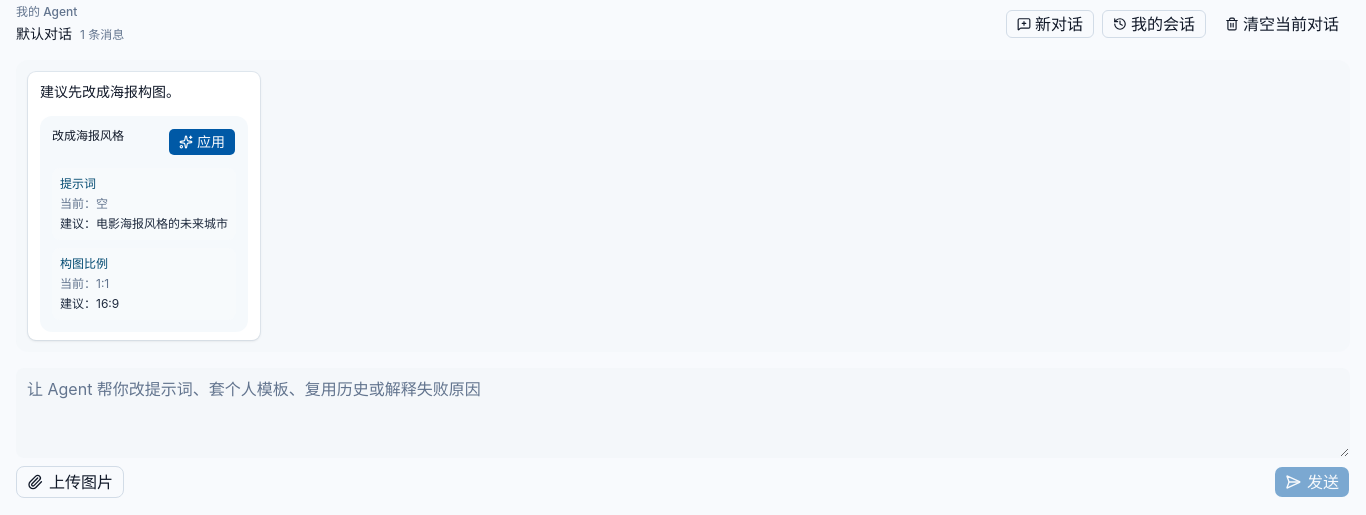
Scenario: AgentChatPanel › previews a form patch and applies it only after confirmation
This screenshot has width=1366, height=515.
Expected: the text "建议：电影海报风格的未来城市" is shown, [60,216,228,232]
Click the button "应用" at (202, 142), box [168,128,236,156]
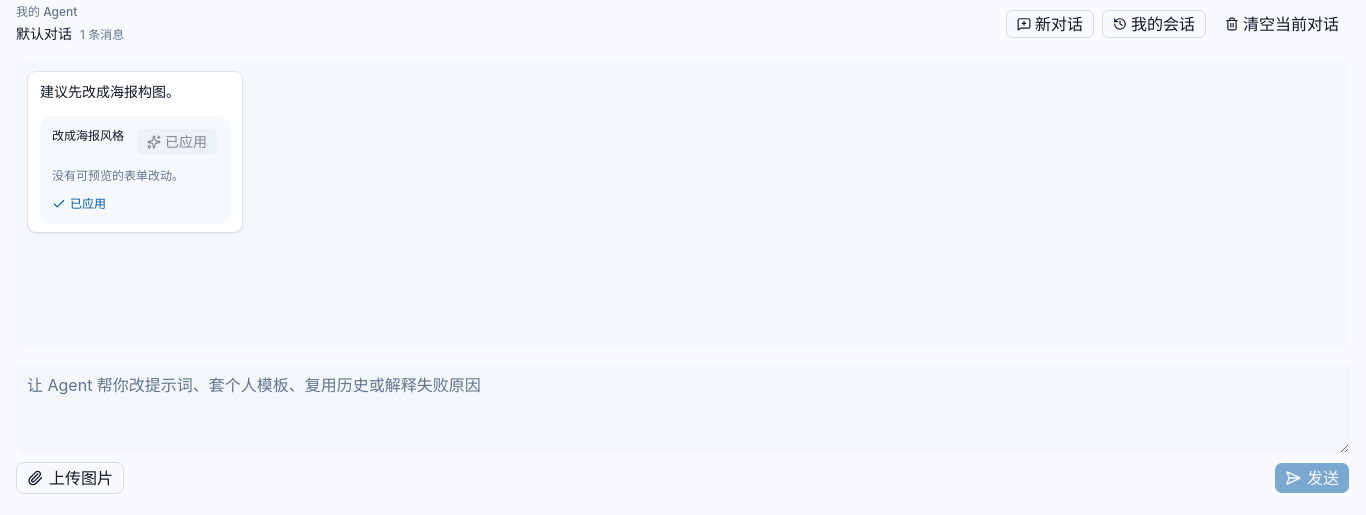
Result: the button "已应用" is shown at [136,128,218,156]
